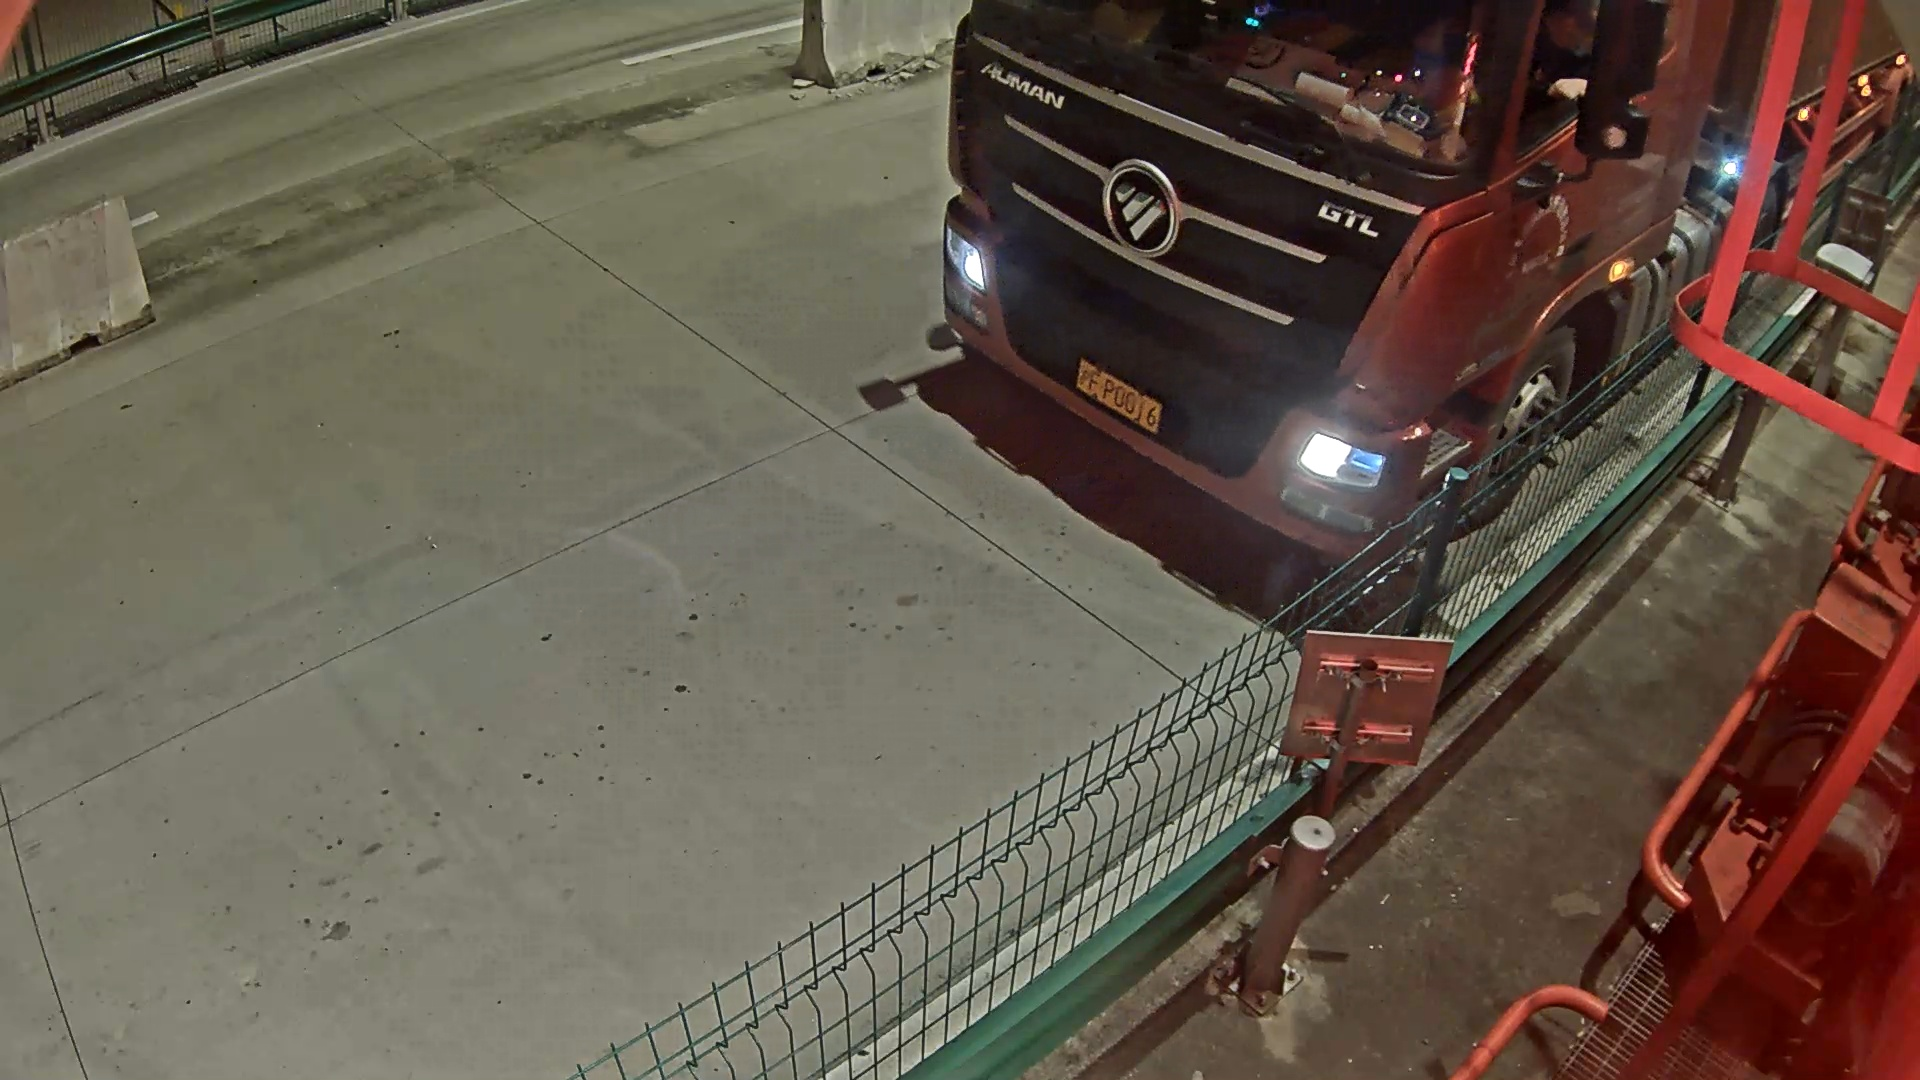head: (937, 17, 1559, 623)
plate: (1066, 361, 1181, 439)
